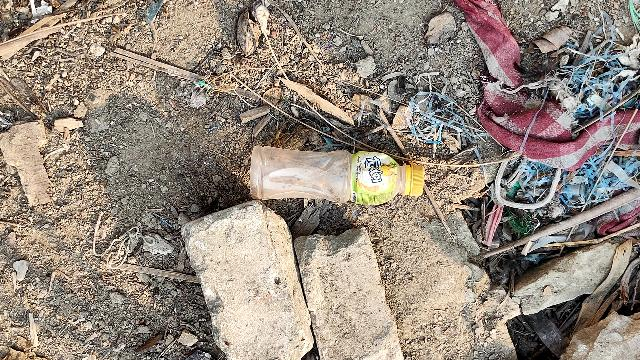bottle: (238, 146, 430, 205)
